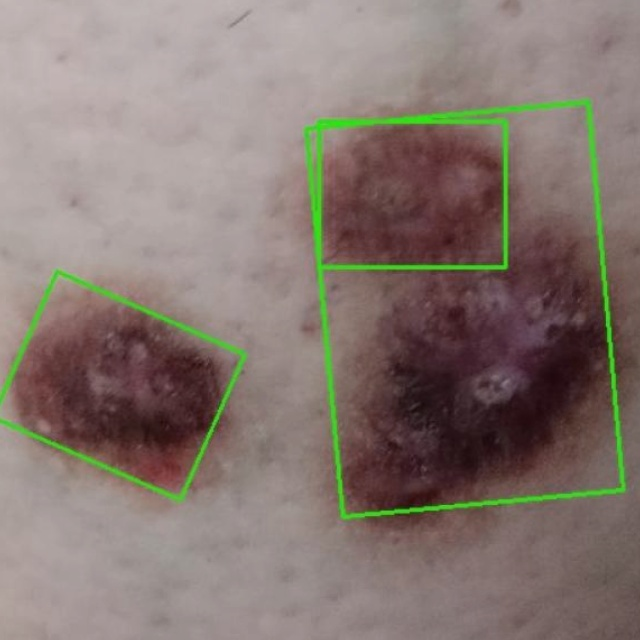Eczema: (307, 102, 624, 516), (0, 272, 245, 501), (319, 121, 505, 267)
